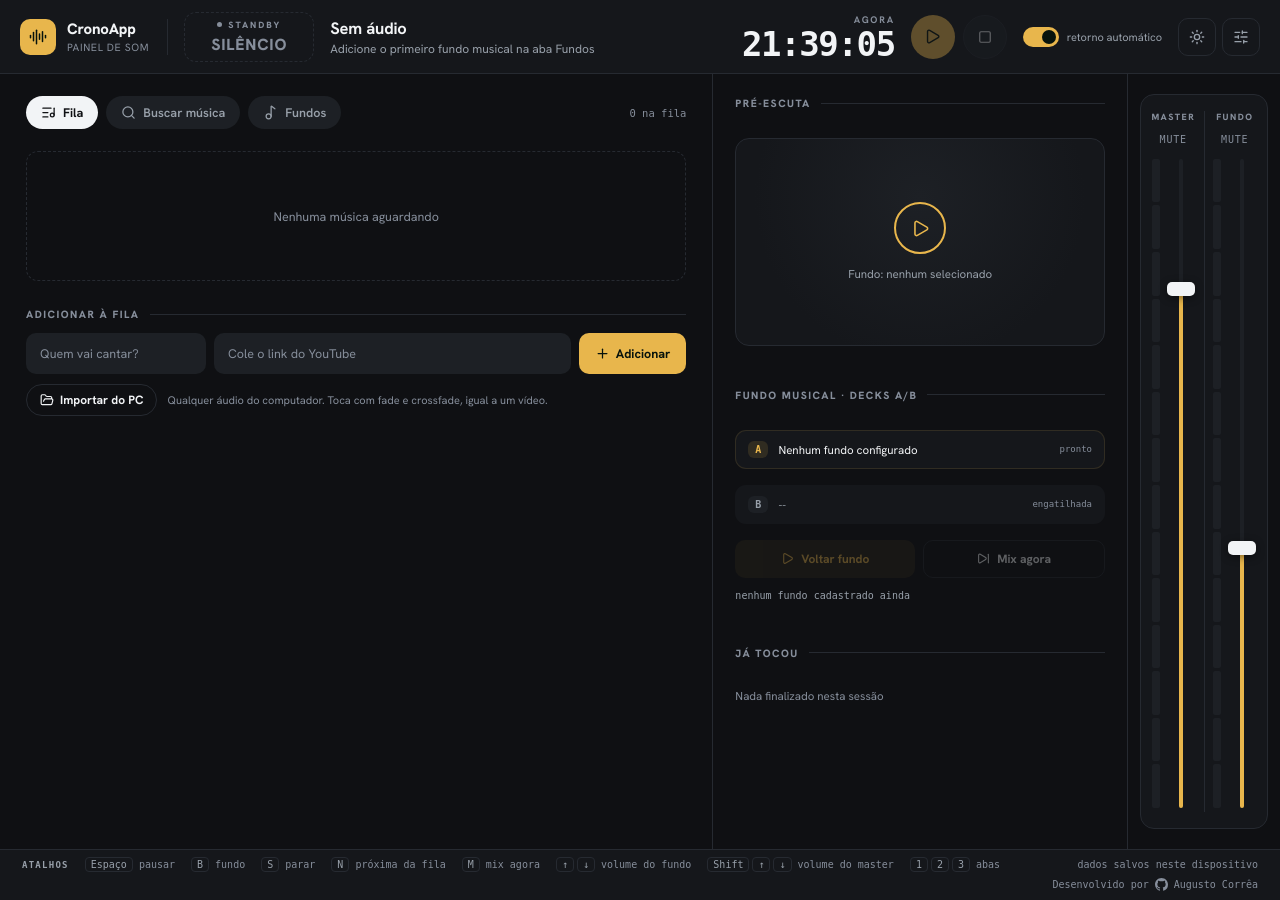
Scenario: adicionar à fila (RF-01.1) › recusa o que não é link de vídeo, com a frase na tela
Type "Ana" into the field named "Nome da pessoa" at (116, 354), box top-left (26, 333), bottom-right (206, 374)
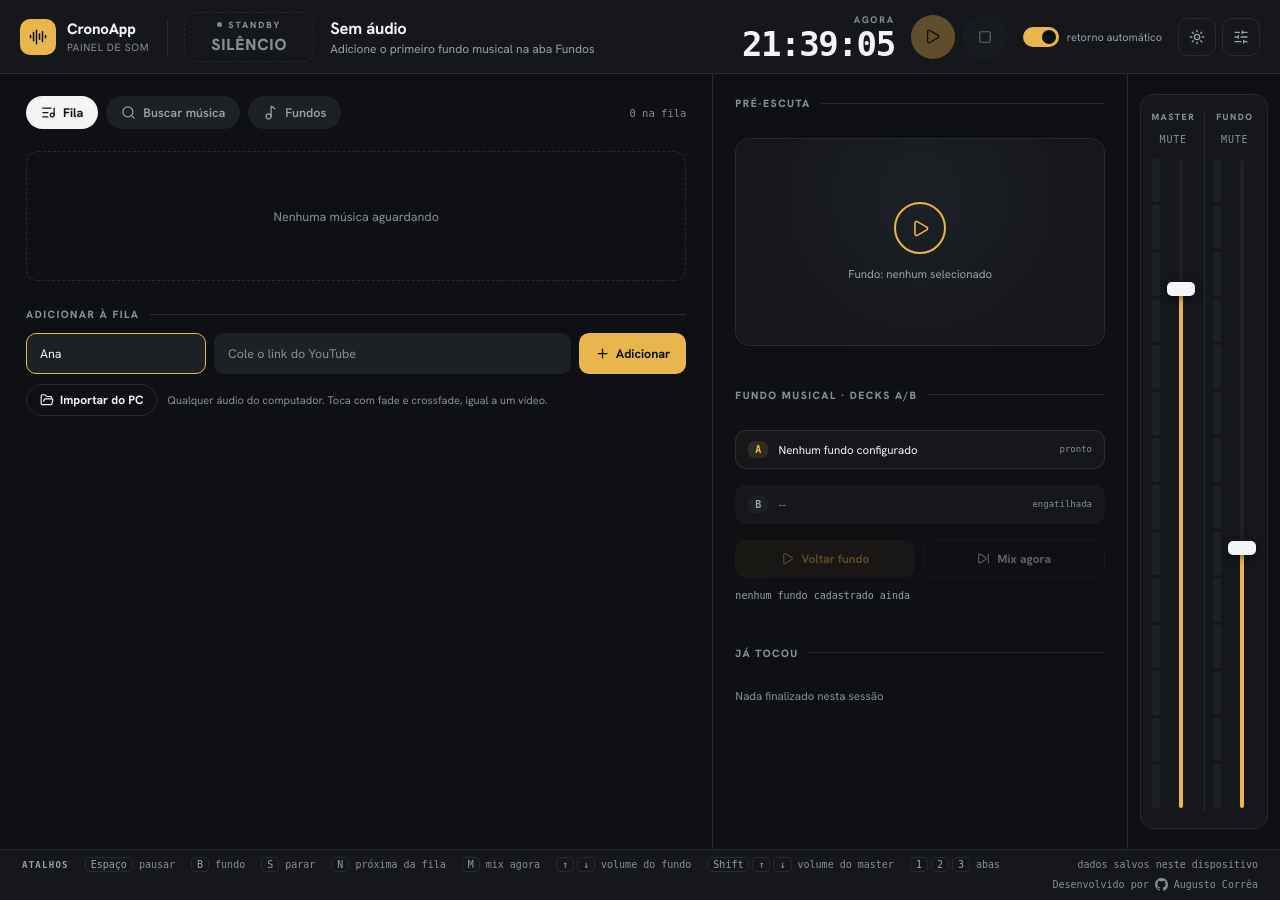
Type "meu link favorito" into the field labelled "link do YouTube" at (392, 354), box top-left (214, 333), bottom-right (571, 374)
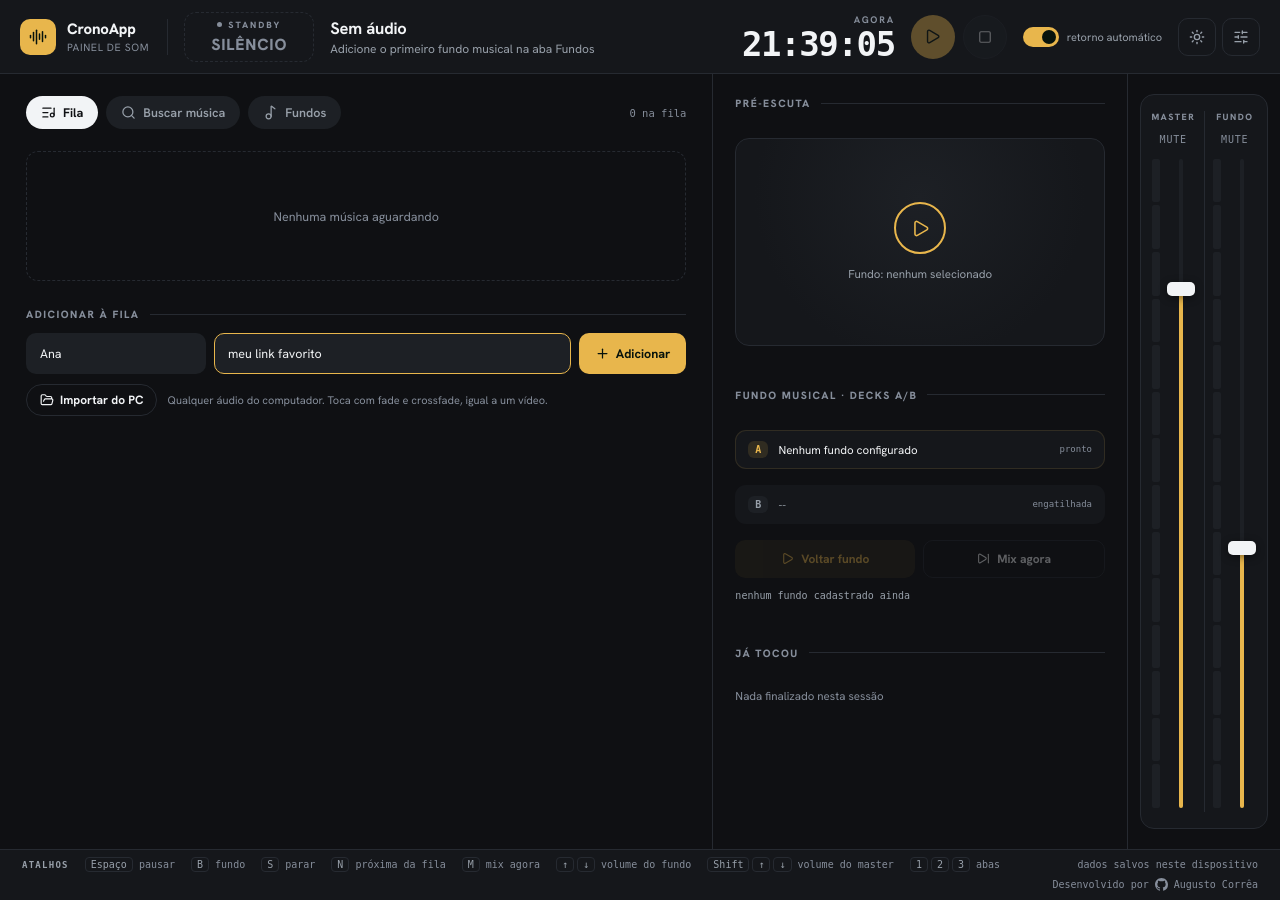
Click the button "Adicionar" at (633, 354), box top-left (579, 333), bottom-right (686, 374)
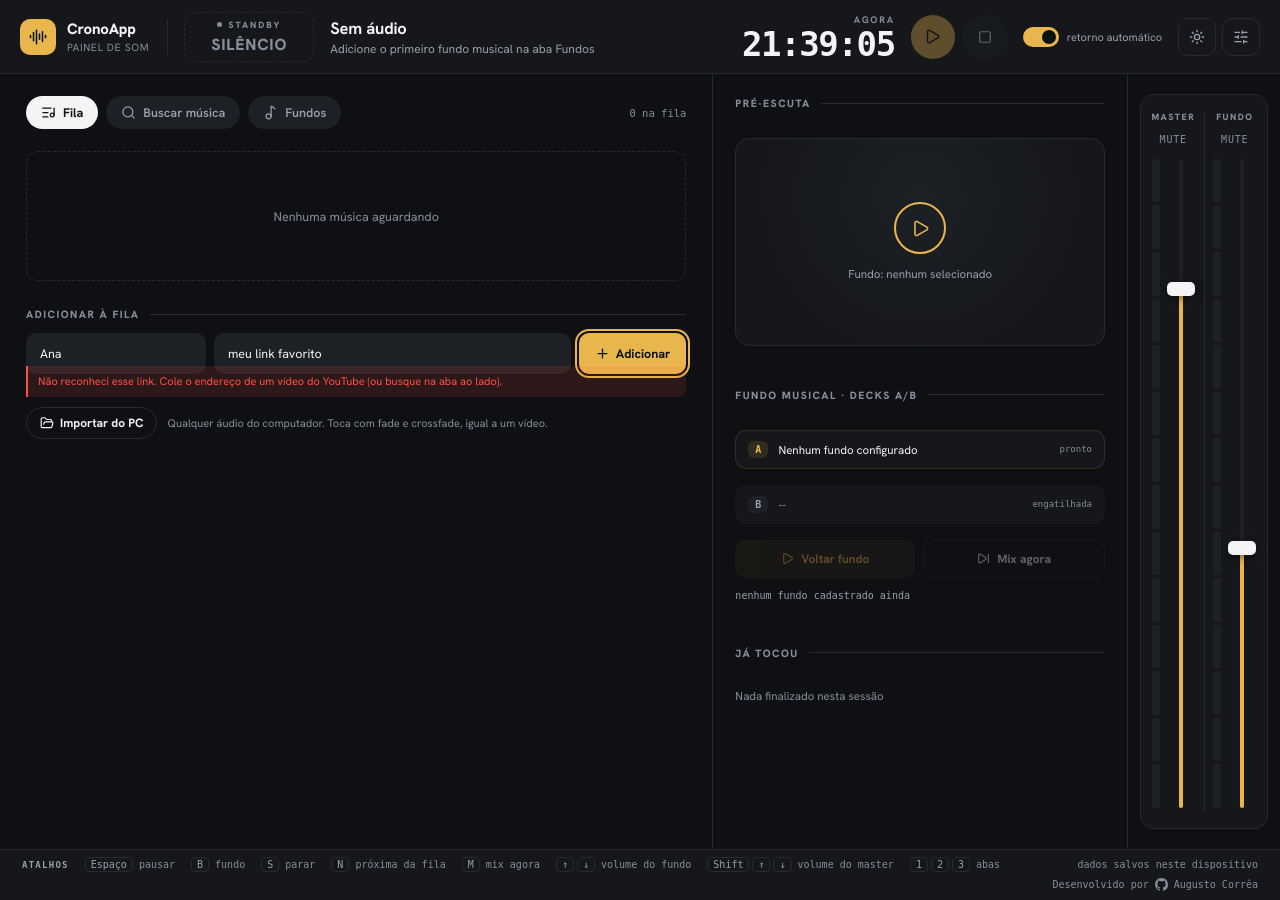
Result: the message shows "Não reconheci esse link" at top-left (38, 374), bottom-right (502, 388)
